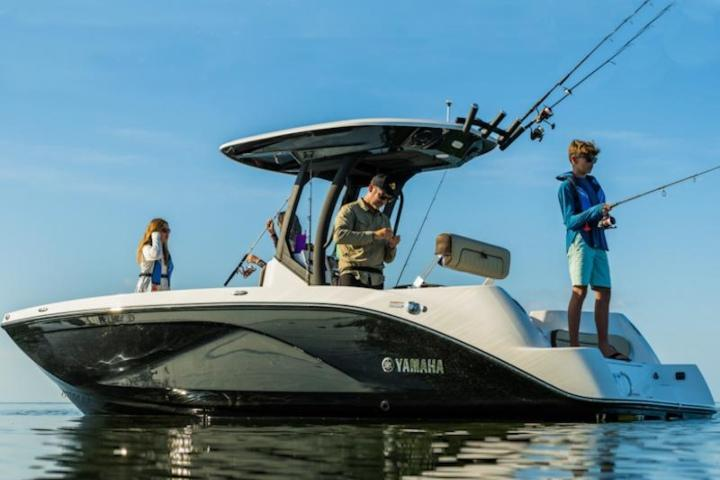fishing boat: (0, 1, 719, 480)
